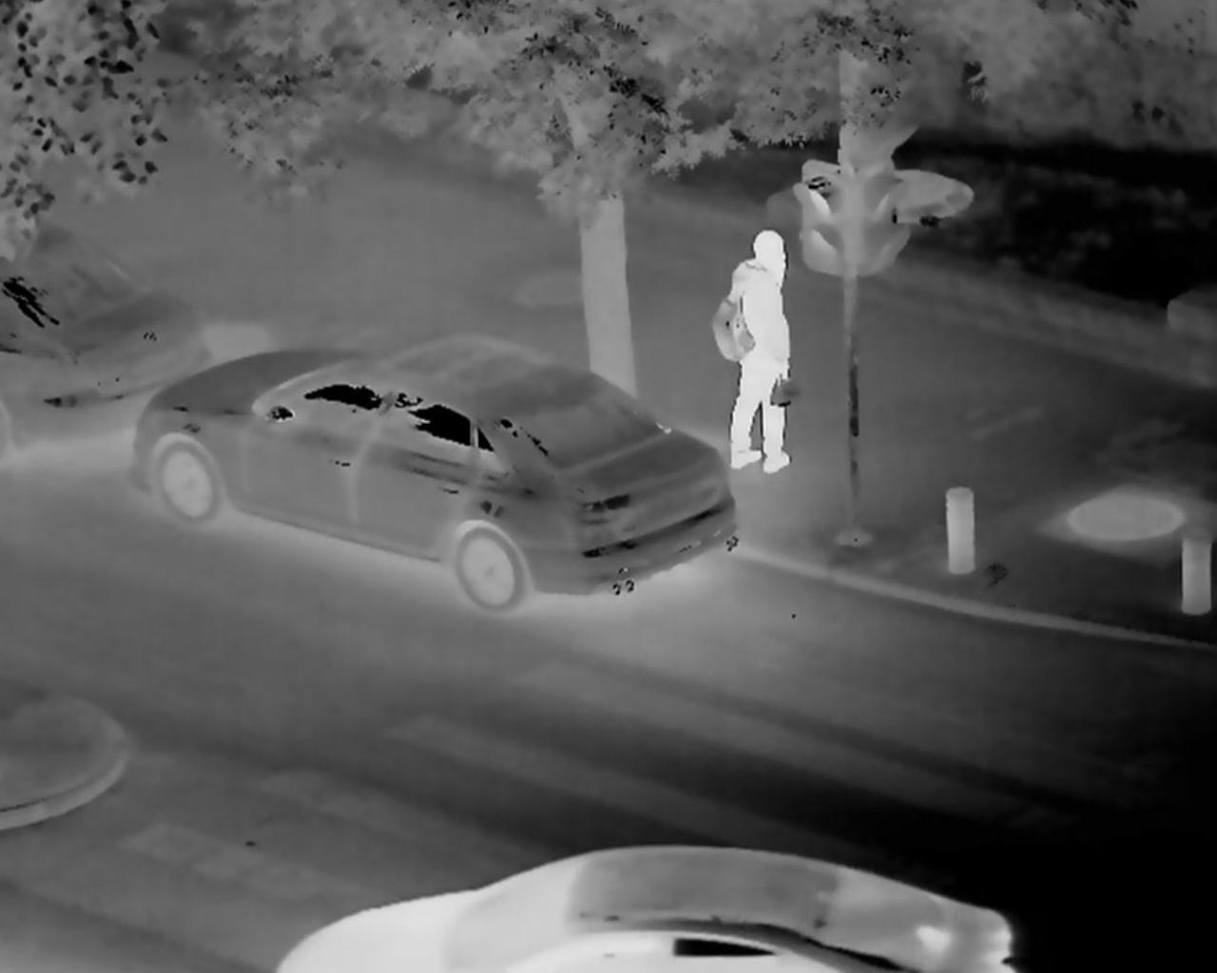person: (707, 224, 806, 476)
